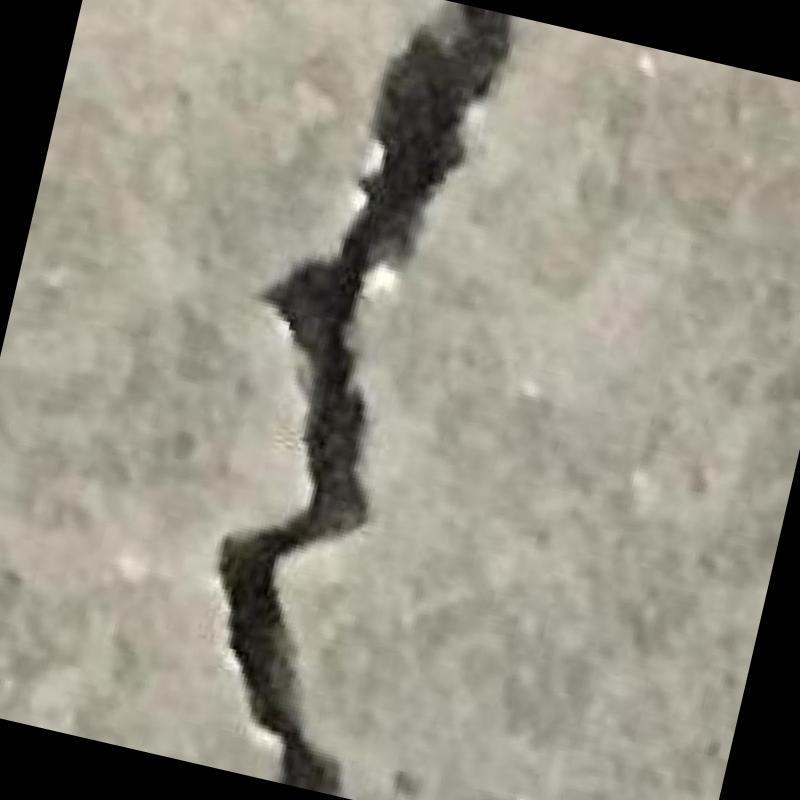crack: (219, 1, 511, 795)
